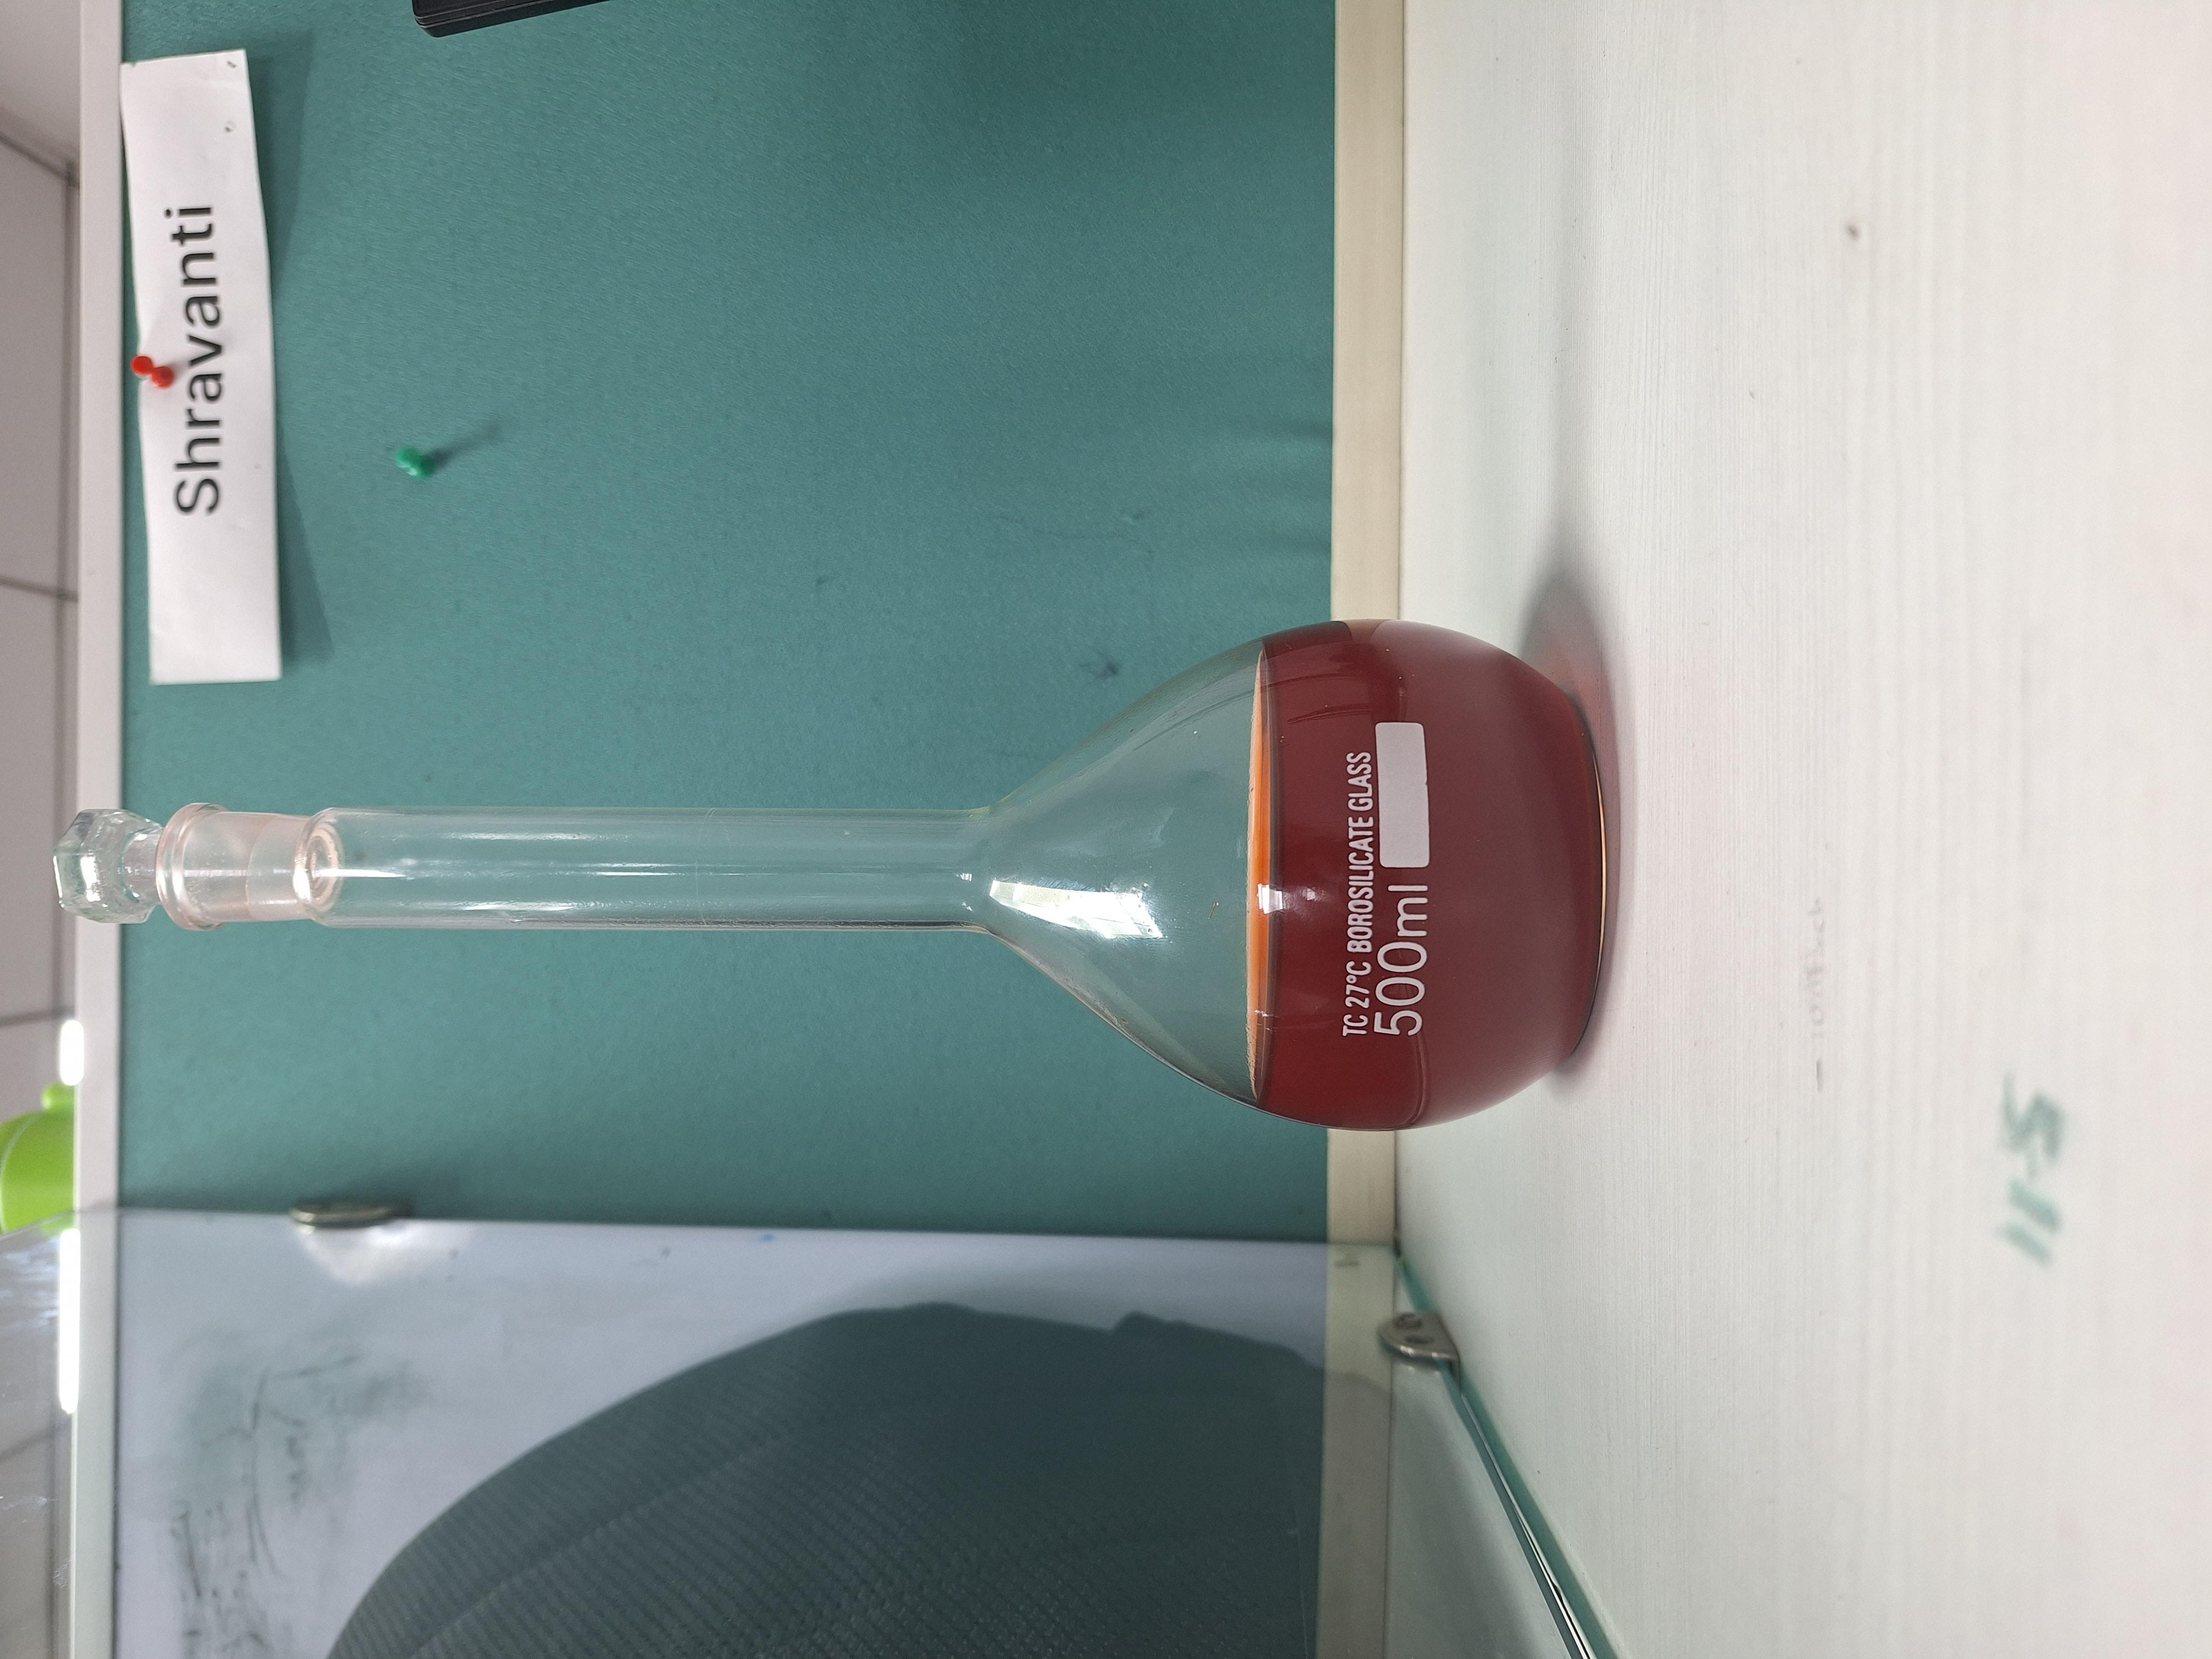Volumetric flask: (672, 2, 1397, 1197)
